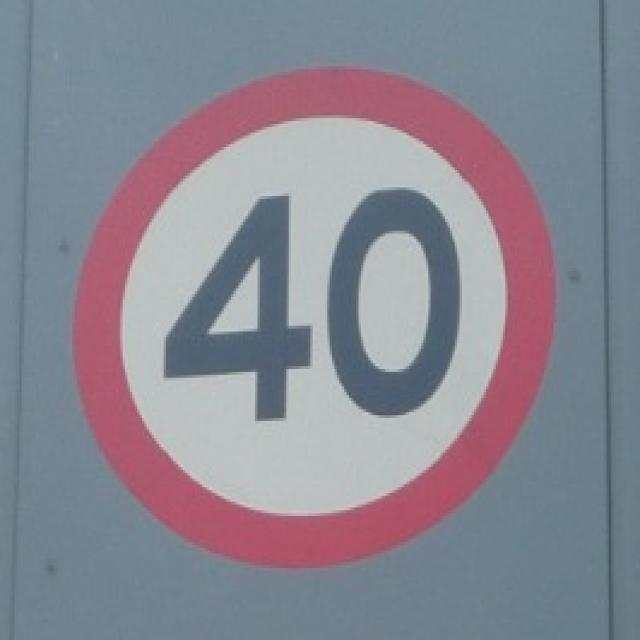Speed Limit -40-: (159, 186, 465, 427)
